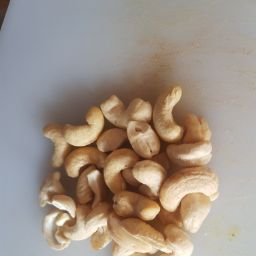Cashew: (56, 103, 220, 256)
